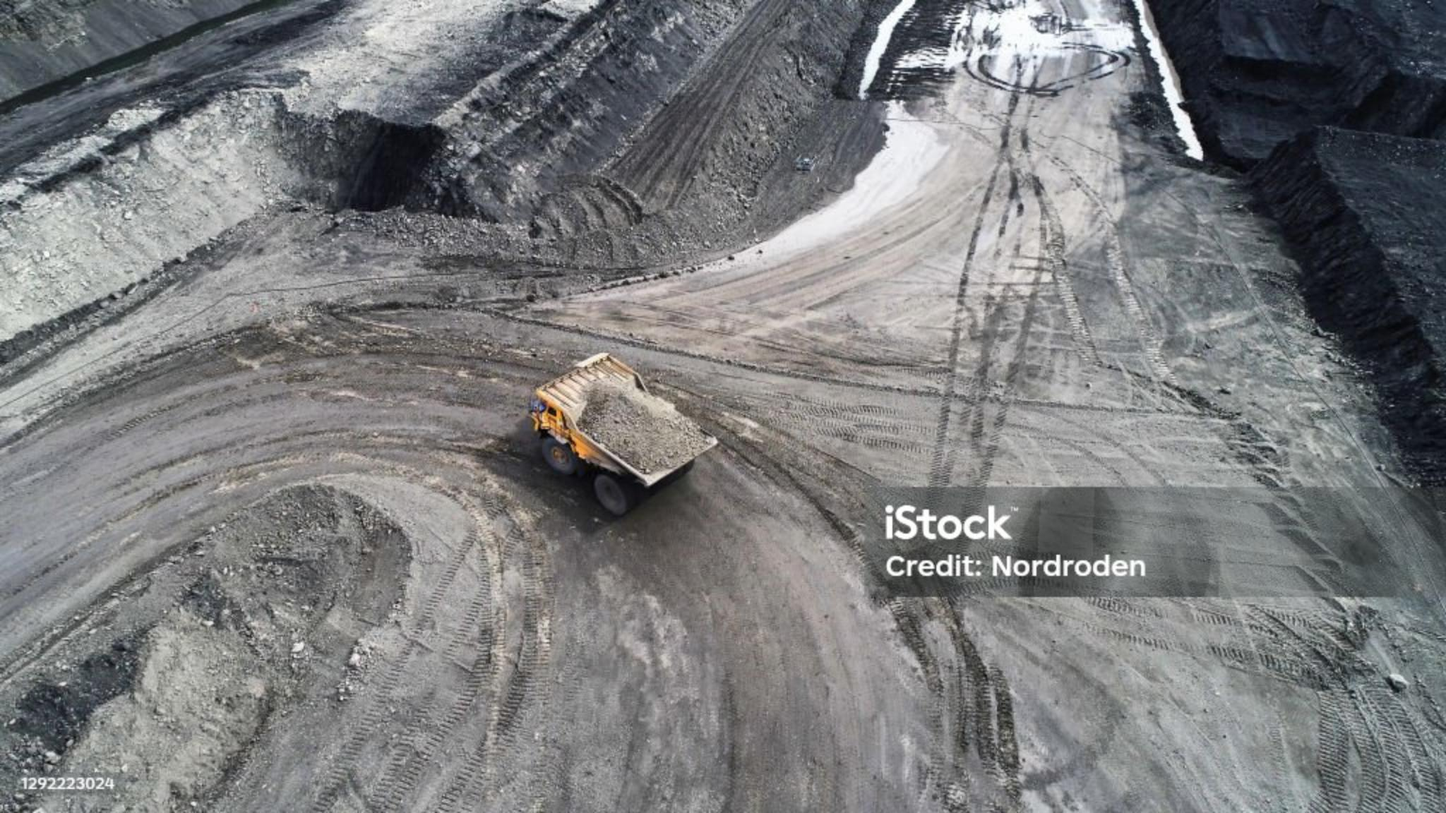benches: (0, 311, 929, 812)
truck: (521, 339, 720, 499)
